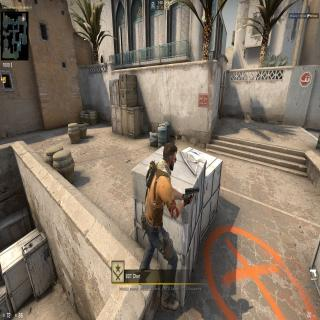T-Head: (162, 139, 178, 177)
